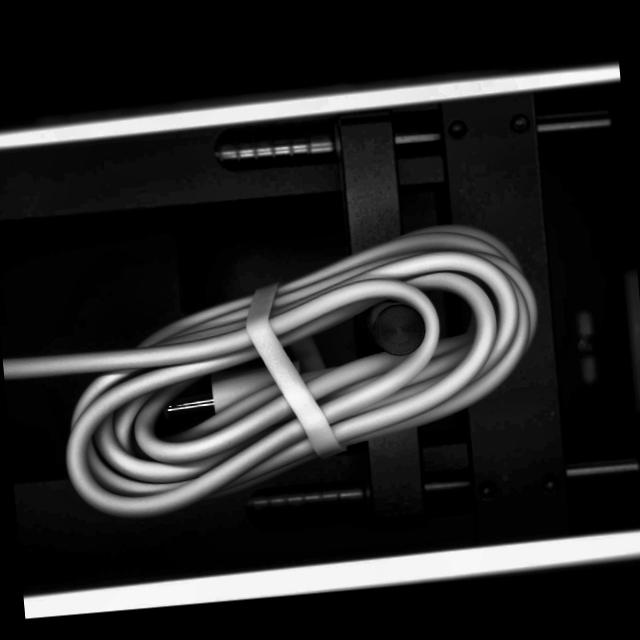Cable: (0, 209, 558, 527)
